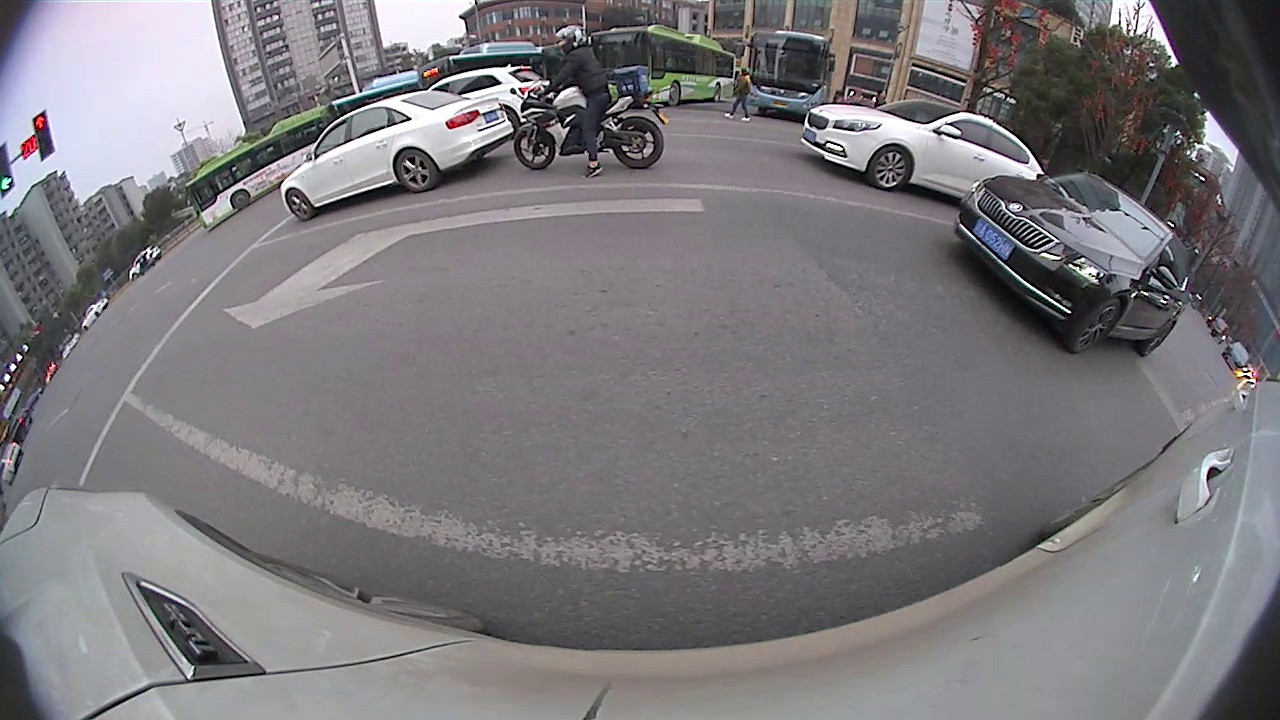bus: (181, 101, 330, 231), (584, 26, 741, 108), (747, 27, 831, 120)
car: (953, 168, 1189, 357), (280, 87, 515, 223), (802, 96, 1046, 198), (424, 64, 554, 140)
front: (1063, 293, 1128, 361), (865, 142, 917, 193), (511, 125, 560, 173), (284, 187, 317, 222)
person: (736, 66, 751, 118)
rear: (609, 115, 667, 172), (393, 147, 441, 198), (1140, 317, 1175, 359)
rider: (511, 22, 666, 181)
